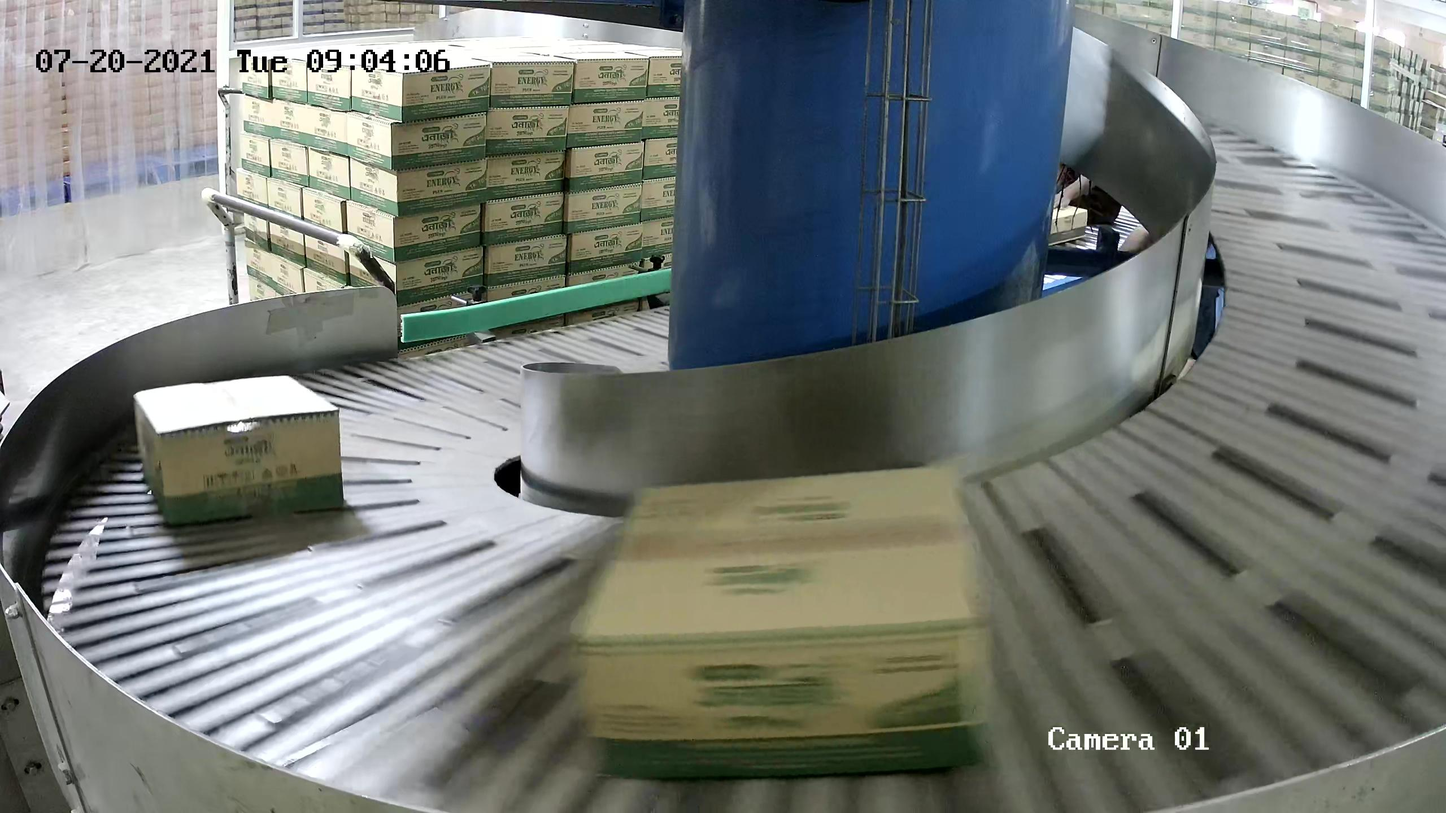Box: (565, 459, 992, 779), (132, 374, 345, 526)
